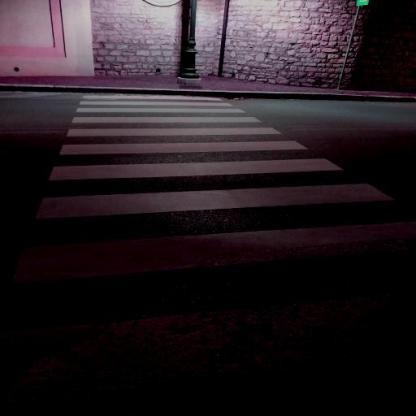crosswalk: (28, 155, 416, 226), (66, 106, 266, 126)
